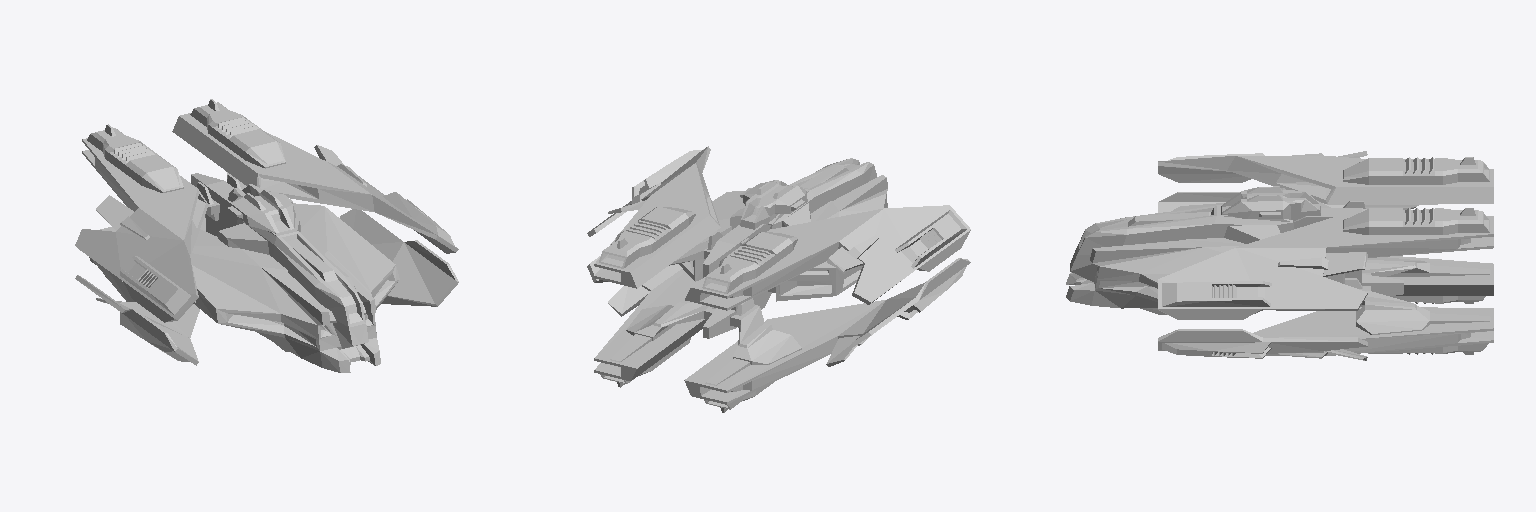
The model's file is ship1.obj.
3 views of the same model, side by side, from view 1: azimuth 30°, elevation 25°; view 2: azimuth 150°, elevation 25°; view 3: azimuth 270°, elevation 25° (orthographic).
Parts seen in each view (by area): view 1: SciFi_Fighter_AK5; view 2: SciFi_Fighter_AK5; view 3: SciFi_Fighter_AK5.
Boxes of the visible parts, box(x1,y1,x2,y2) form: SciFi_Fighter_AK5: box(75, 99, 458, 372); SciFi_Fighter_AK5: box(587, 146, 970, 412); SciFi_Fighter_AK5: box(1066, 151, 1493, 360).
Bounding box in the file's own units: 1544 × 748 × 1982.